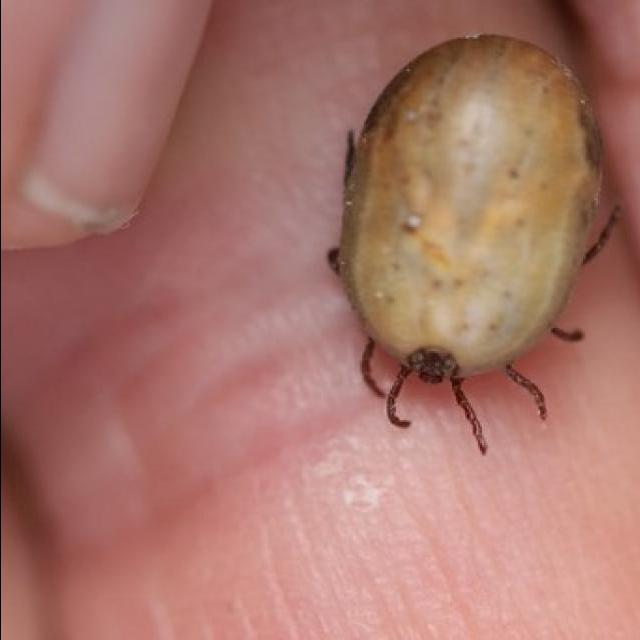Dermacentor Reticulatus-F-Fed: (326, 32, 621, 454)
